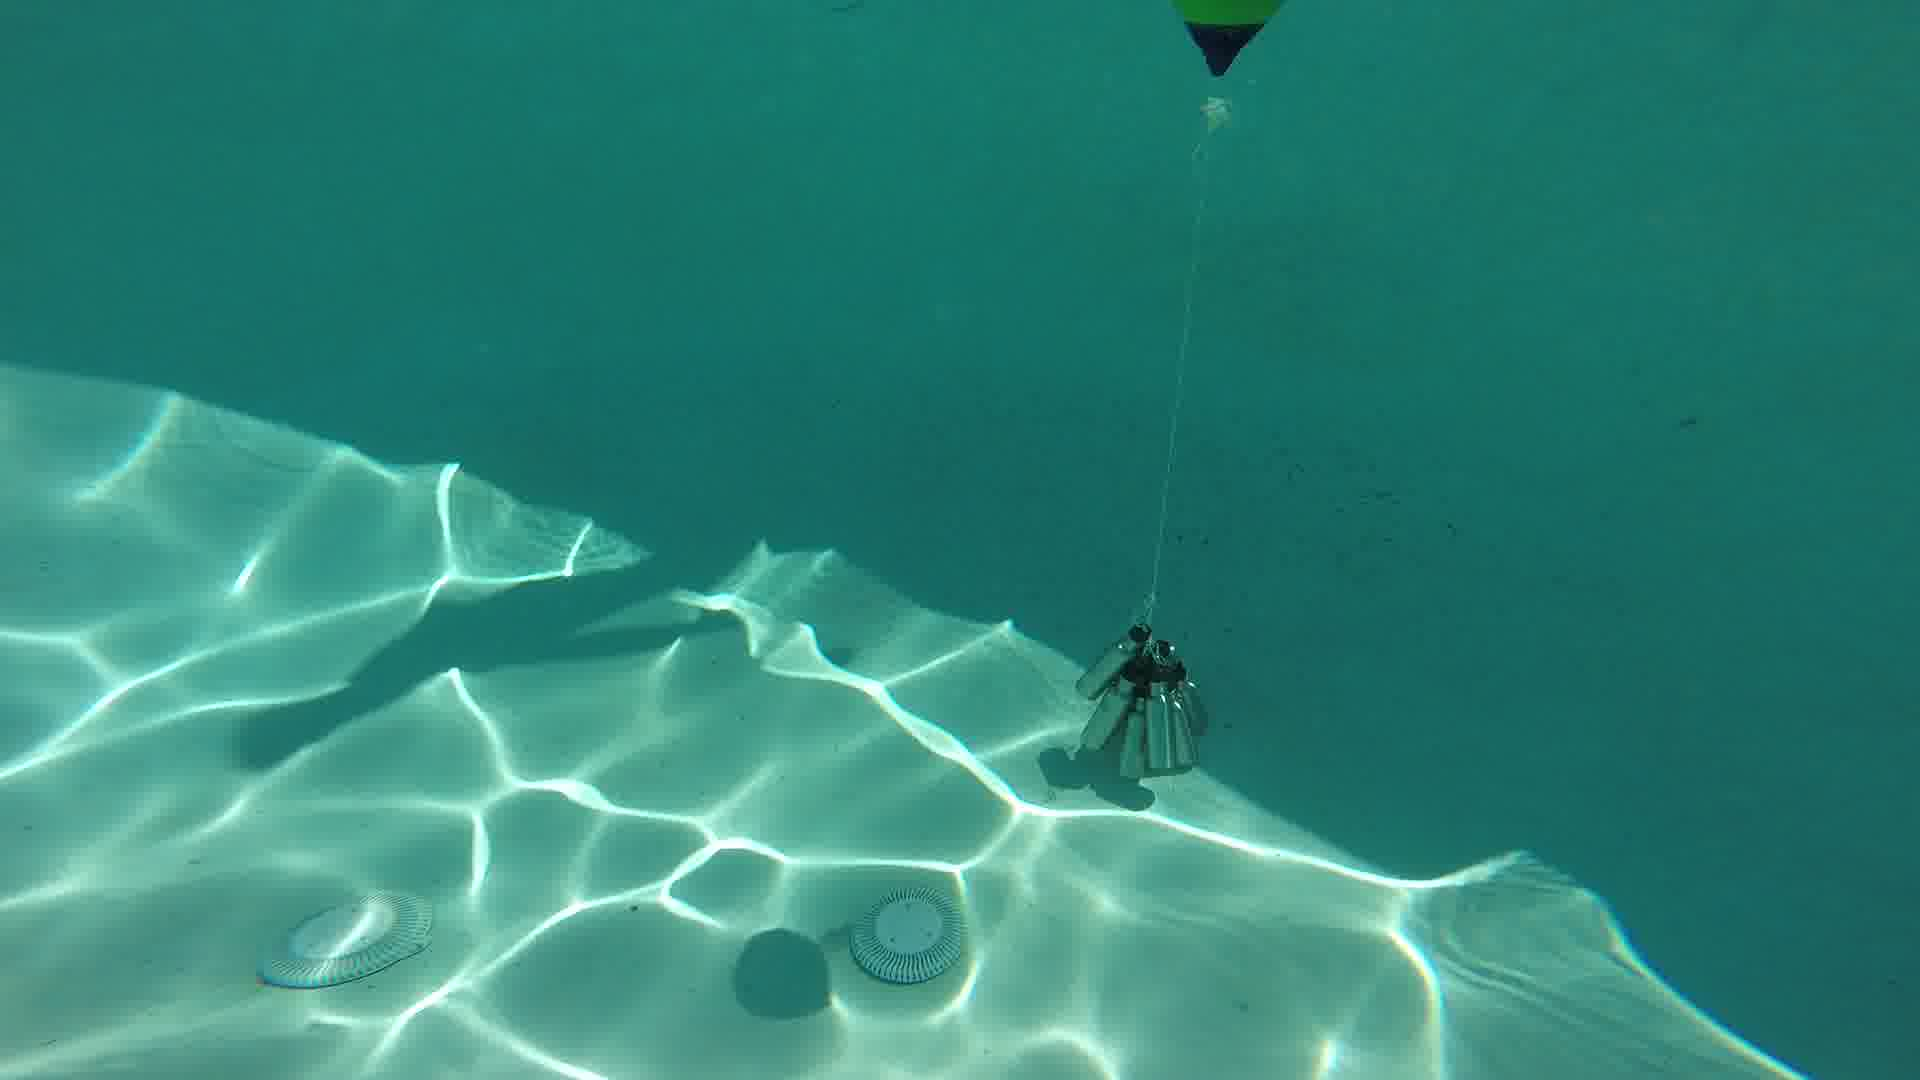yellow_buoy: (1174, 1, 1280, 132)
